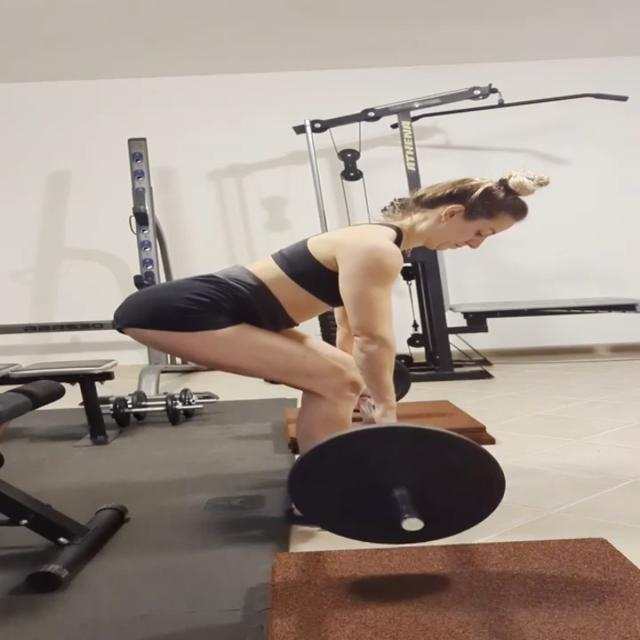barbell: (284, 423, 511, 547)
